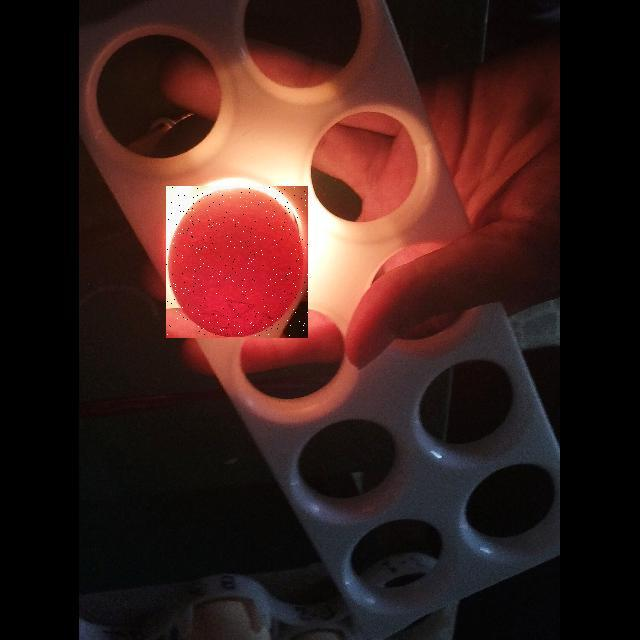Infertile: (166, 186, 308, 338)
